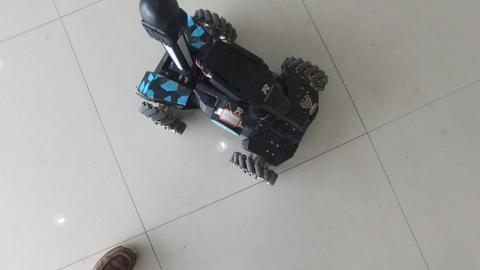chariot: (116, 8, 326, 187)
